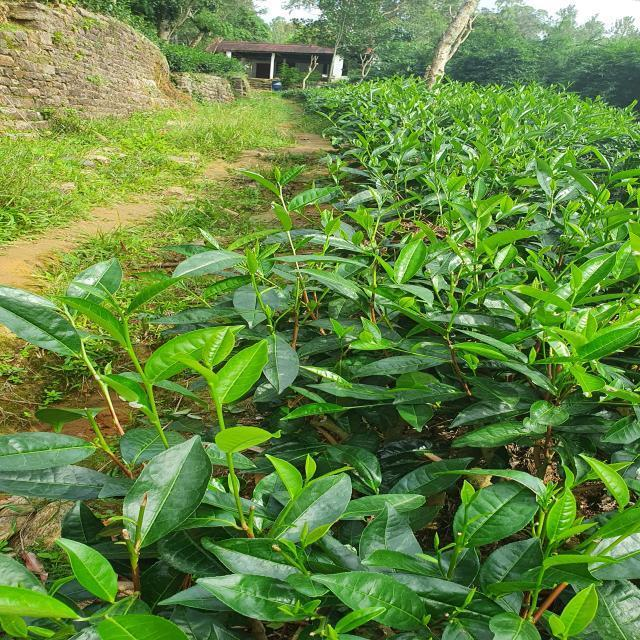Stem: (123, 319, 128, 327), (217, 405, 222, 411), (609, 170, 612, 175), (548, 546, 551, 551), (465, 508, 468, 513), (279, 185, 282, 189)
